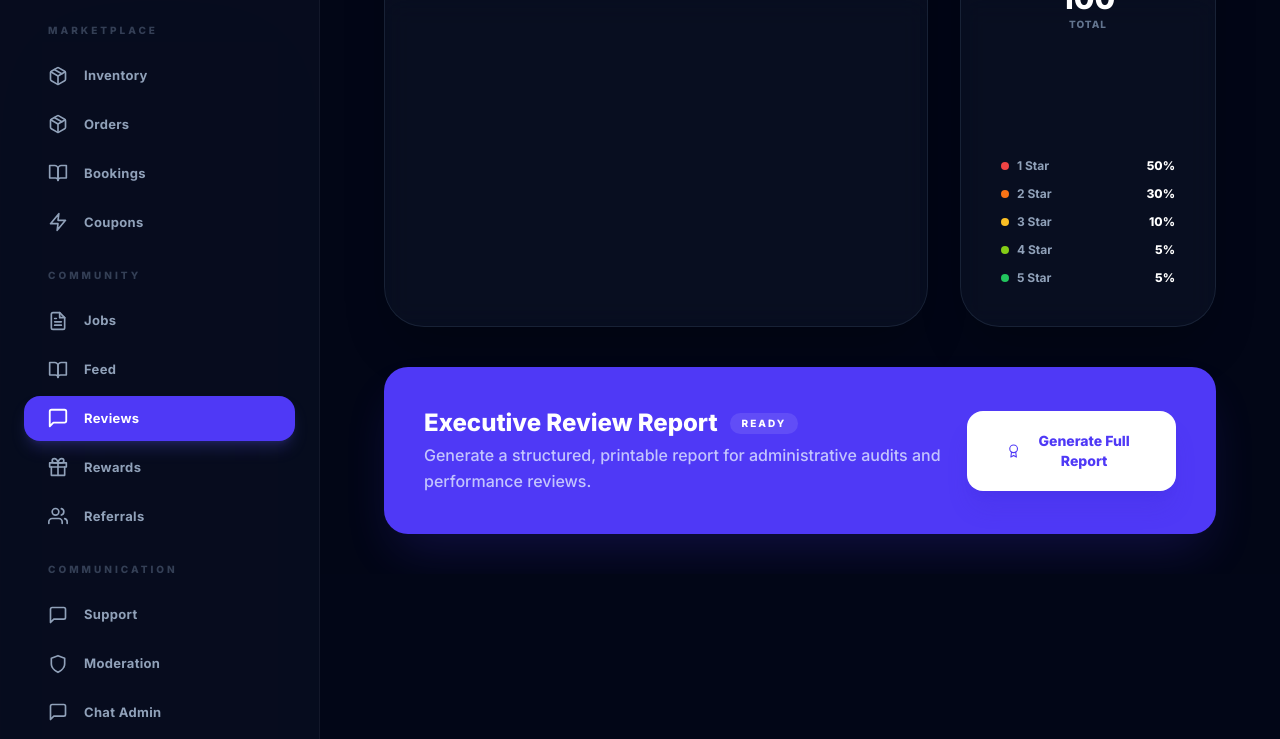
Test: AdminReviewAnalytics Component › displays correct insights for poor performance
(page scrolled)
Step 1. Click the button "Generate Full Report" → (1072,451), box left=967, top=411, right=1176, bottom=491
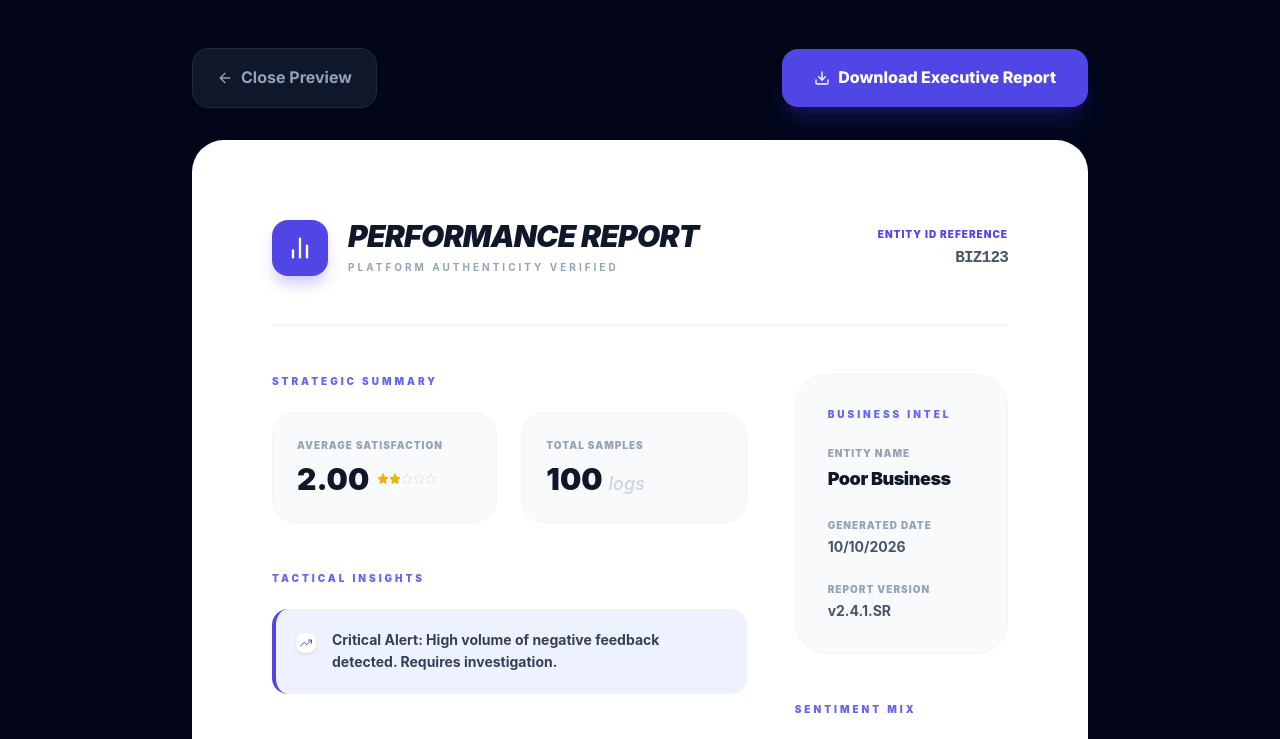
Check: the text "Critical Alert: High volume of negative feedback detected" is shown, box left=332, top=631, right=659, bottom=670
